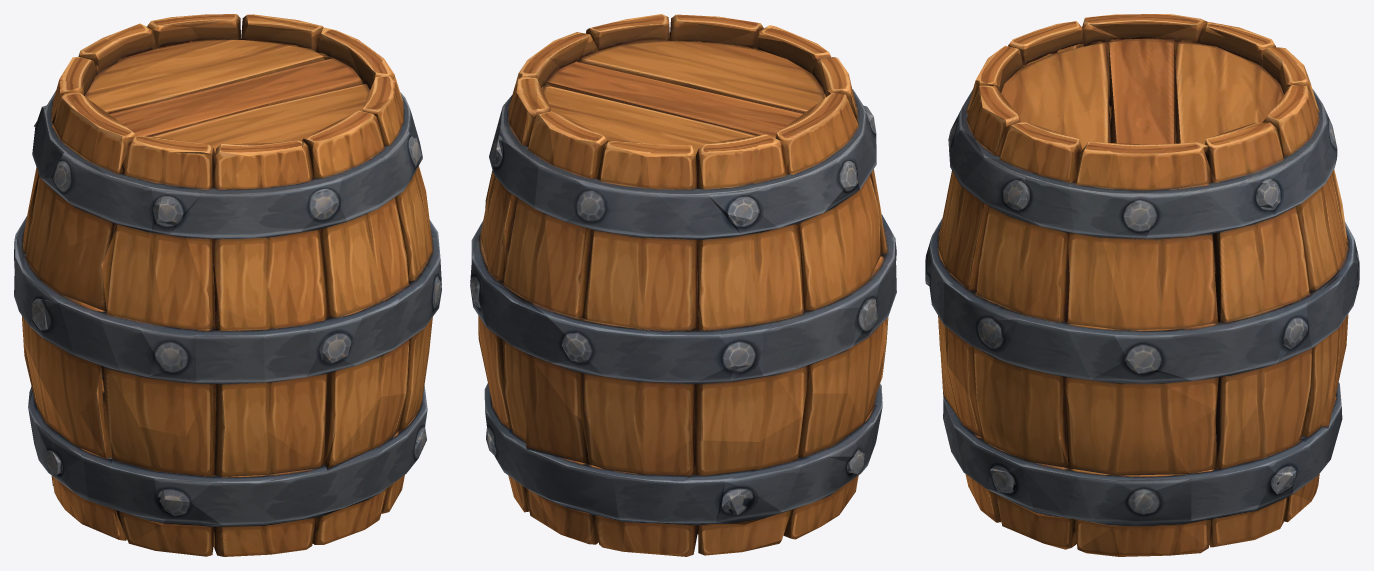
File: barrel.hq.glb
3 views of the same model, side by side, from view 1: azimuth 30°, elevation 25°; view 2: azimuth 150°, elevation 25°; view 3: azimuth 270°, elevation 25° (orthographic).
Visible parts, largest first — view 1: output_unwrapped; view 2: output_unwrapped; view 3: output_unwrapped.
Part boxes in pixels (x1=…): output_unwrapped: x1=14, y1=14, x2=441, y2=556; output_unwrapped: x1=470, y1=14, x2=896, y2=556; output_unwrapped: x1=925, y1=14, x2=1359, y2=556.
Bounding box in the file's own units: 1.86 × 1.9 × 1.85.
1 material, 1 textured.
